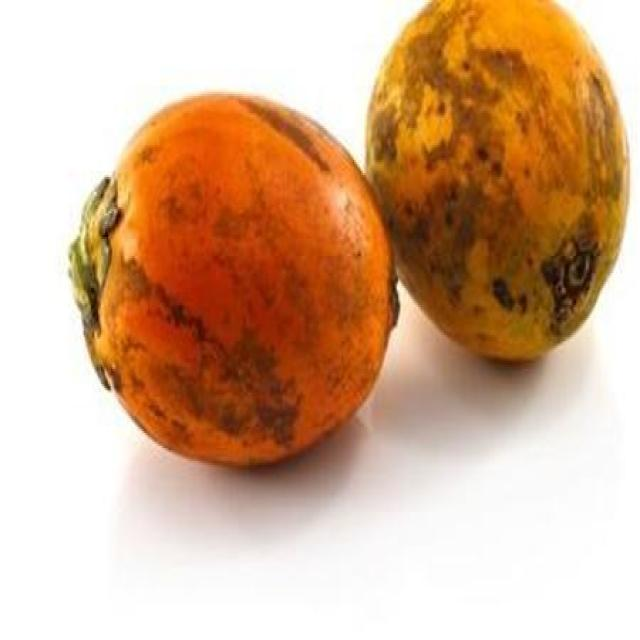good: (68, 92, 400, 471), (363, 0, 630, 365)
